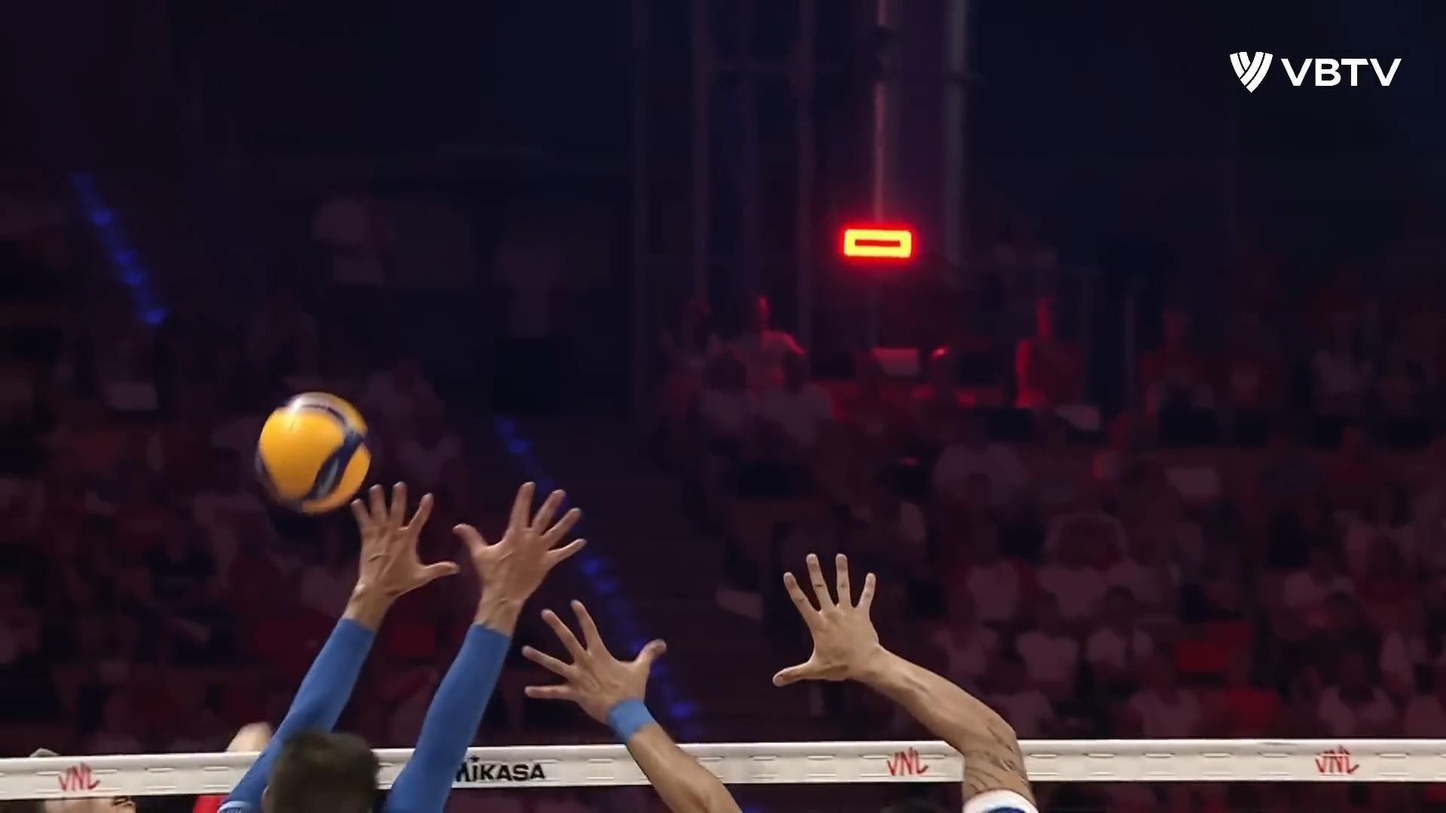ball: (250, 388, 378, 513)
